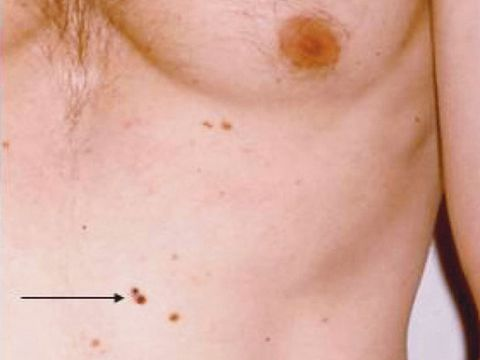mole: (122, 283, 153, 308), (216, 114, 235, 134), (165, 306, 180, 327)
